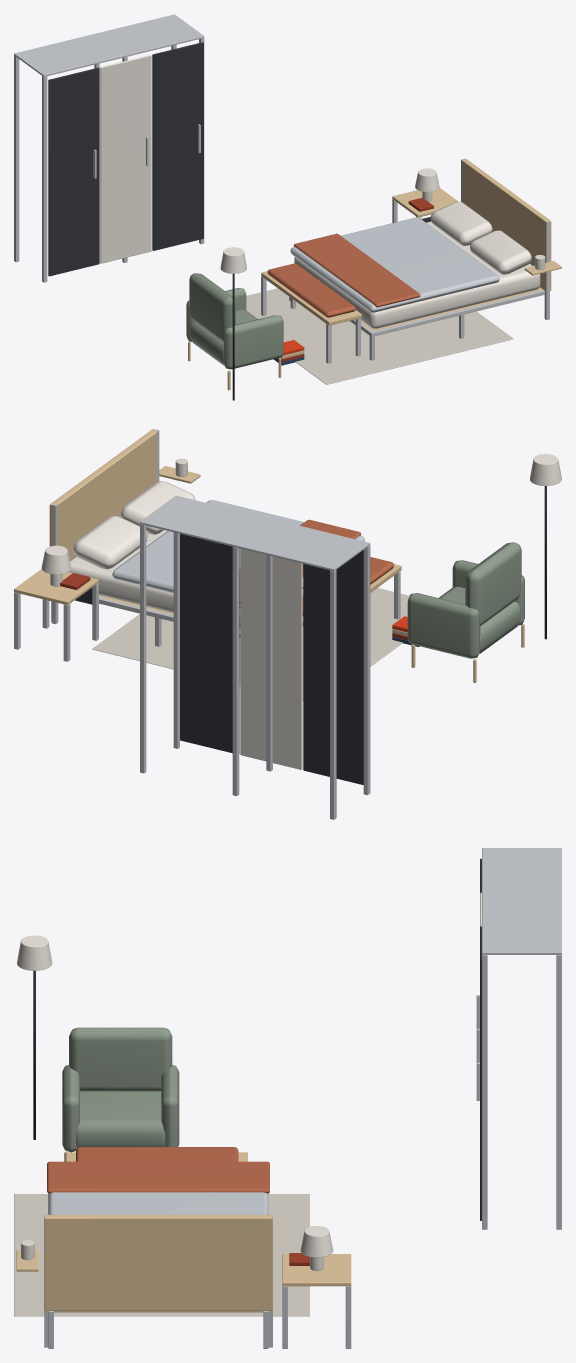
File: yatak.glb
The picture shows the model from 3 angles, top to bottom: view 1: azimuth 30°, elevation 25°; view 2: azimuth 150°, elevation 25°; view 3: azimuth 270°, elevation 25°; orthographic projection. The views are drawn at different scales.
Visible parts, largest first — view 1: wd_door1, wd_door0, wd_door2, rug_bed, bd_duvet, wd_top, bd_head, bd_matt, bd_blanket, ac_armL, ac_back, bn2_cush (+11 smaller); view 2: wd_door1, wd_door0, wd_door2, wd_top, bd_head, rug_bed, ac_armR, ac_back, bd_duvet, bd_pillow1, bd_matt, wd_p5.001.94 (+13 smaller); view 3: bd_head, wd_top, rug_bed, bd_blanket, ac_back, bd_duvet, ac_seat, bn2_cush, nt_top, wd_p5.861.40, wd_p5.861.94, ac_armR (+3 smaller).
Boxes of the visible parts, x1,y1,x2,y2 form: wd_door1: (100,55,151,263); wd_door0: (48,67,99,276); wd_door2: (152,42,203,250); rug_bed: (246,288,513,384); bd_duvet: (290,217,499,312); wd_top: (14,14,204,76); bd_head: (462,158,551,290); bd_matt: (294,221,540,328); bd_blanket: (293,233,420,307); ac_armL: (223,315,283,369); ac_back: (189,273,235,342); bn2_cush: (267,263,355,317); wd_door1: (240,548,302,769); wd_door0: (303,550,363,784); wd_door2: (180,534,239,753); wd_top: (140,495,370,571); bd_head: (49,429,157,559); rug_bed: (92,588,409,700); ac_armR: (407,593,480,658); ac_back: (465,542,521,625); bd_duvet: (112,500,364,608); bd_pillow1: (73,516,148,569); bd_matt: (68,530,303,628); wd_p5.001.94: (232,547,239,795); bd_head: (44,1215,272,1310); wd_top: (482,848,561,954); rug_bed: (14,1194,309,1316); bd_blanket: (47,1161,269,1193); ac_back: (69,1027,172,1091); bd_duvet: (48,1192,268,1214); ac_seat: (76,1091,165,1147); bn2_cush: (76,1147,238,1161); nt_top: (282,1254,351,1286); wd_p5.861.40: (482,955,487,1229); wd_p5.861.94: (556,955,561,1229); ac_armR: (161,1065,179,1146).
Size of the model in its own units: 3.85 by 2.22 by 3.98.
